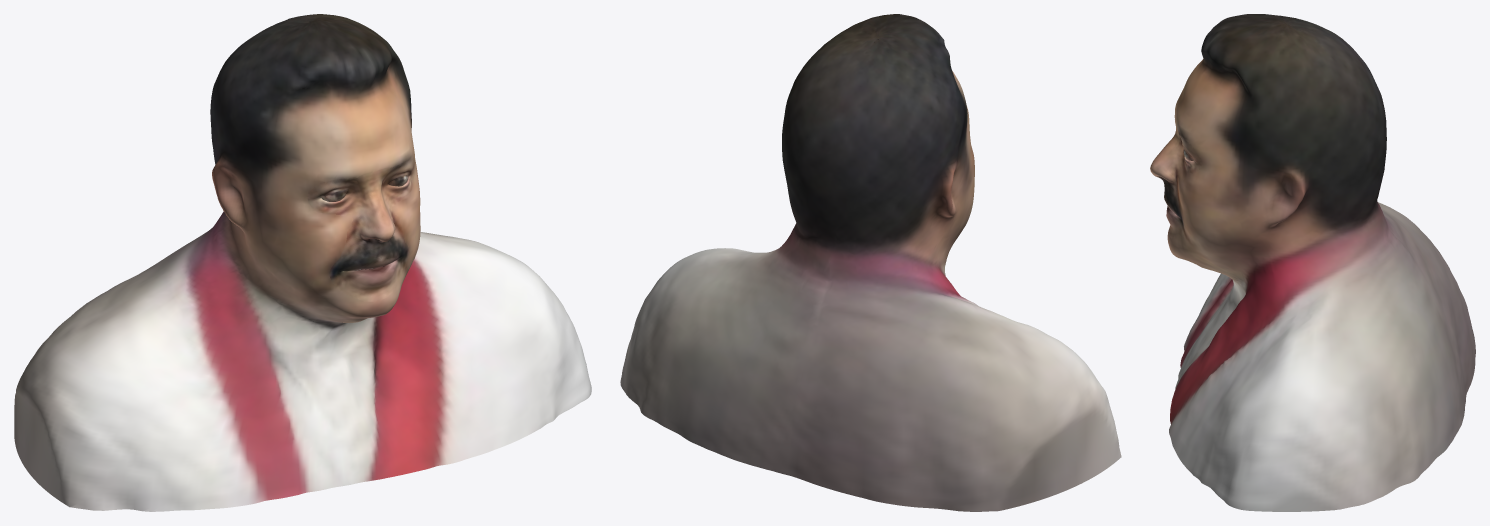
File: mahinda_rajapaksa.glb
3 views of the same model, side by side, from view 1: azimuth 30°, elevation 25°; view 2: azimuth 150°, elevation 25°; view 3: azimuth 270°, elevation 25° (orthographic). The views are drawn at different scales.
Visible parts, largest first — view 1: Mahinda Rajapaksa - smooth portrait bust; view 2: Mahinda Rajapaksa - smooth portrait bust; view 3: Mahinda Rajapaksa - smooth portrait bust.
Part boxes in pixels (x1,y1,x2,y2): Mahinda Rajapaksa - smooth portrait bust: (14,14,591,511); Mahinda Rajapaksa - smooth portrait bust: (620,14,1121,511); Mahinda Rajapaksa - smooth portrait bust: (1150,14,1475,511).
Size of the model in its own units: 0.5 by 0.3851 by 0.3014.
Materials: 1 (1 with a texture image).
